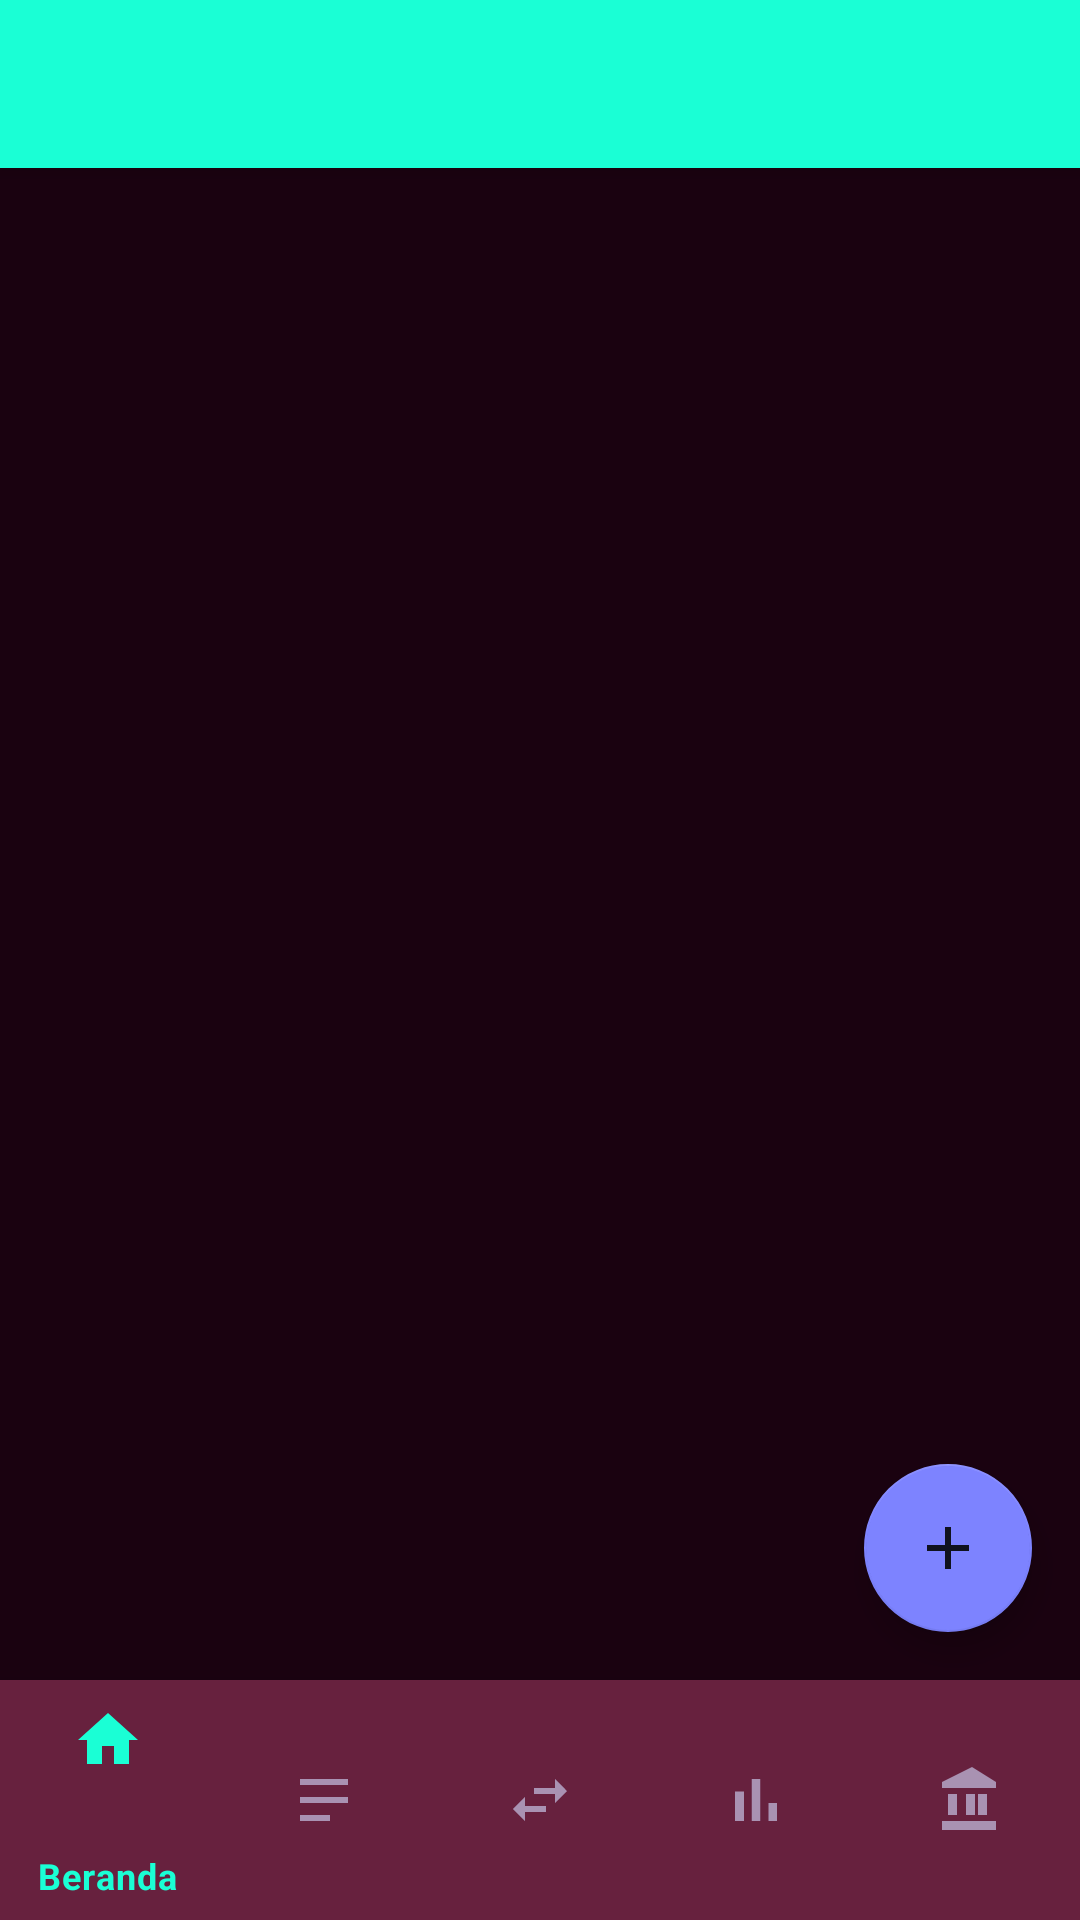

Icons on this 1080px x 1920px Android screen, each with the point to tap as (x=x, y=y):
Tambah Transaksi Baru: (x=948, y=1548)
